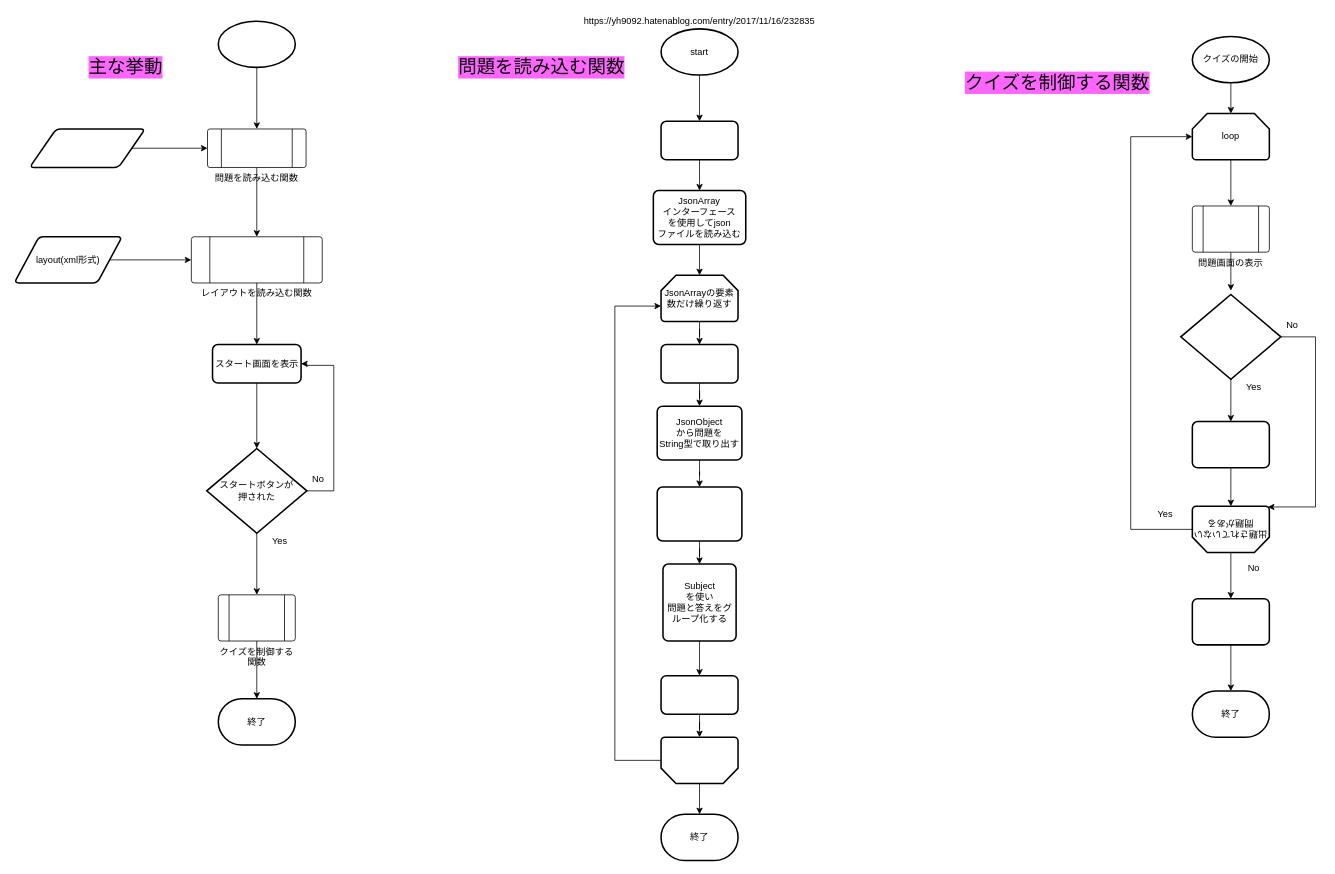
Some shapes in this 1335 by 874 pixel diagram are drawn without their labels. The centre of each missing label's shape, as x and y in pixels:
"ArrayListを作る" goes at point (699, 140).
"JsonObject から答えを String型で取り出す" goes at point (699, 513).
"JsonObject に取り込む" goes at point (699, 363).
"Subjectを ArrayListに追加" goes at point (699, 695).
"アプリの起動" goes at point (256, 44).
"問題（json形式）" goes at point (87, 148).
"正答数のカウントを1増やす" goes at point (1230, 444).
"正答数を表示" goes at point (1230, 621).
"正解の解答の ボタンが押された" goes at point (1230, 336).
